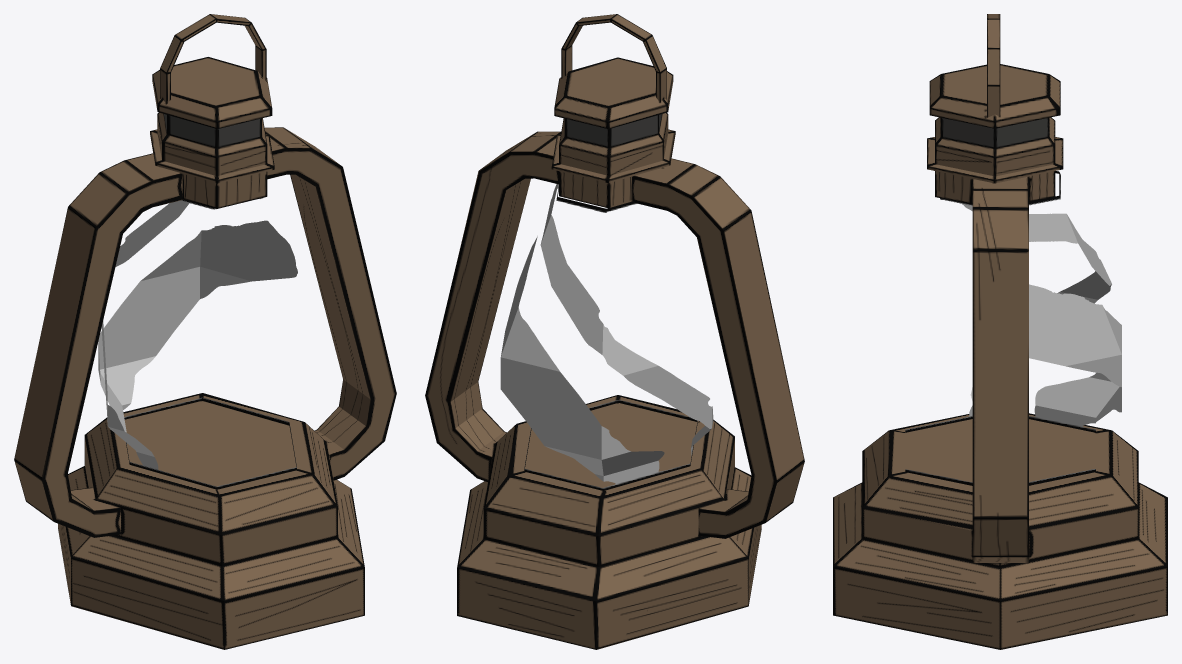
Rendered from lantern.fbx.
3 renders of one model, left to right at view 1: azimuth 30°, elevation 25°; view 2: azimuth 150°, elevation 25°; view 3: azimuth 270°, elevation 25°, orthographic.
Visible parts, largest first — view 1: lantern; view 2: lantern; view 3: lantern.
Part boxes in pixels (x1,y1,x2,y2): lantern: [14, 14, 396, 649]; lantern: [425, 14, 804, 649]; lantern: [833, 14, 1167, 649].
Size of the model in its own units: 29.43 by 44.25 by 23.92.
